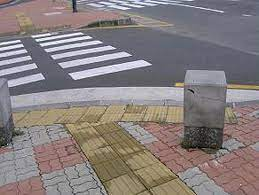guide_blocks: (78, 139, 194, 192), (9, 103, 238, 128)
